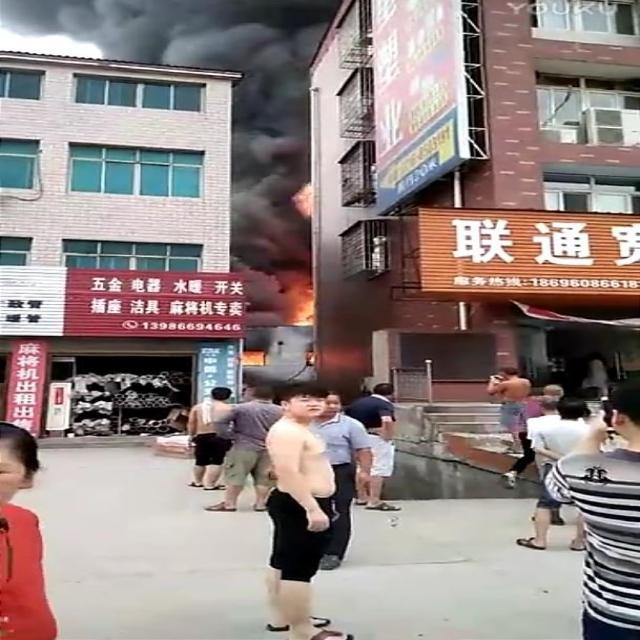Fire: (284, 280, 318, 326), (237, 349, 269, 367)
Smoke: (4, 0, 340, 66), (231, 67, 312, 266)
